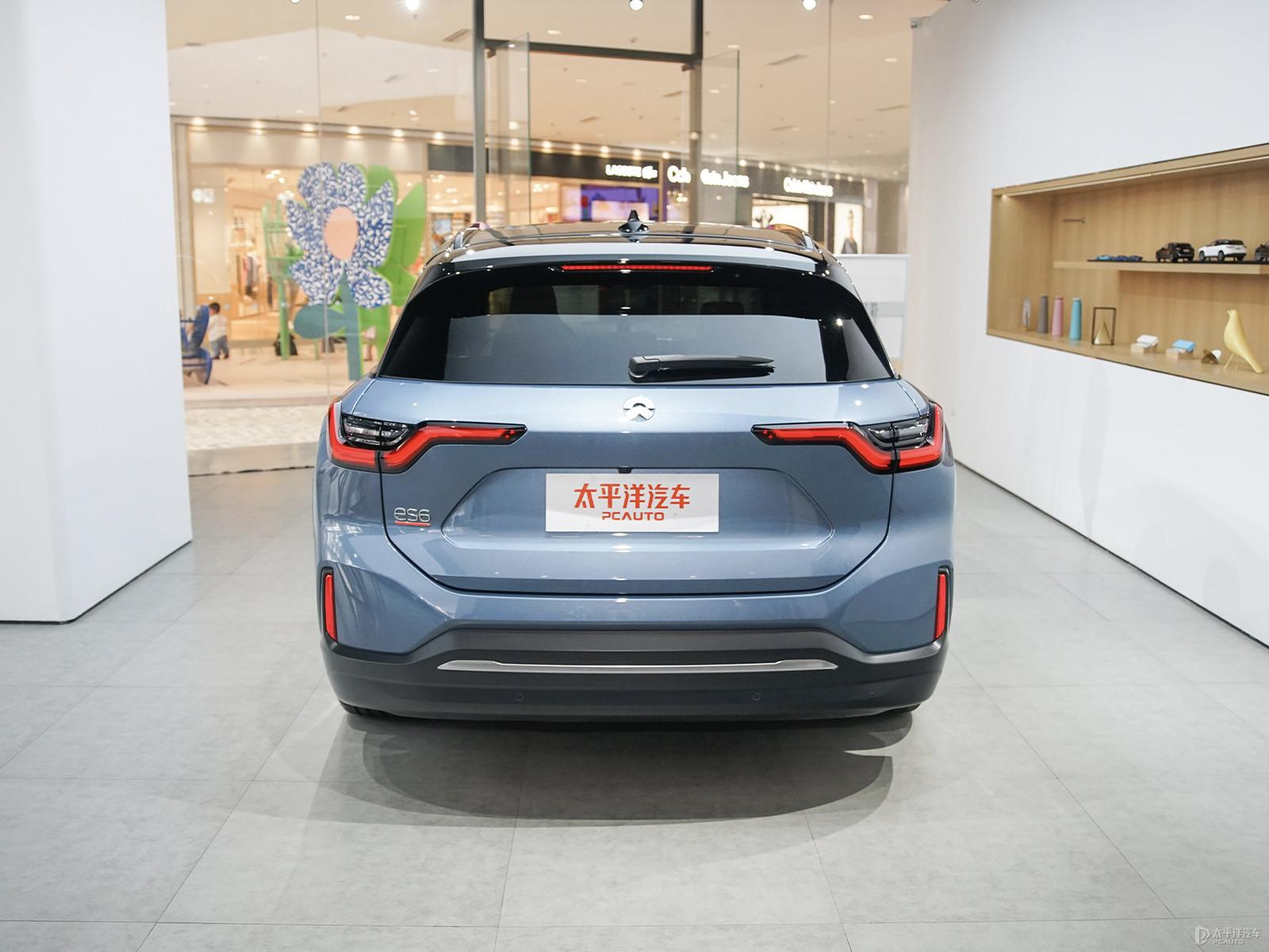NIO: (624, 395, 656, 421)
